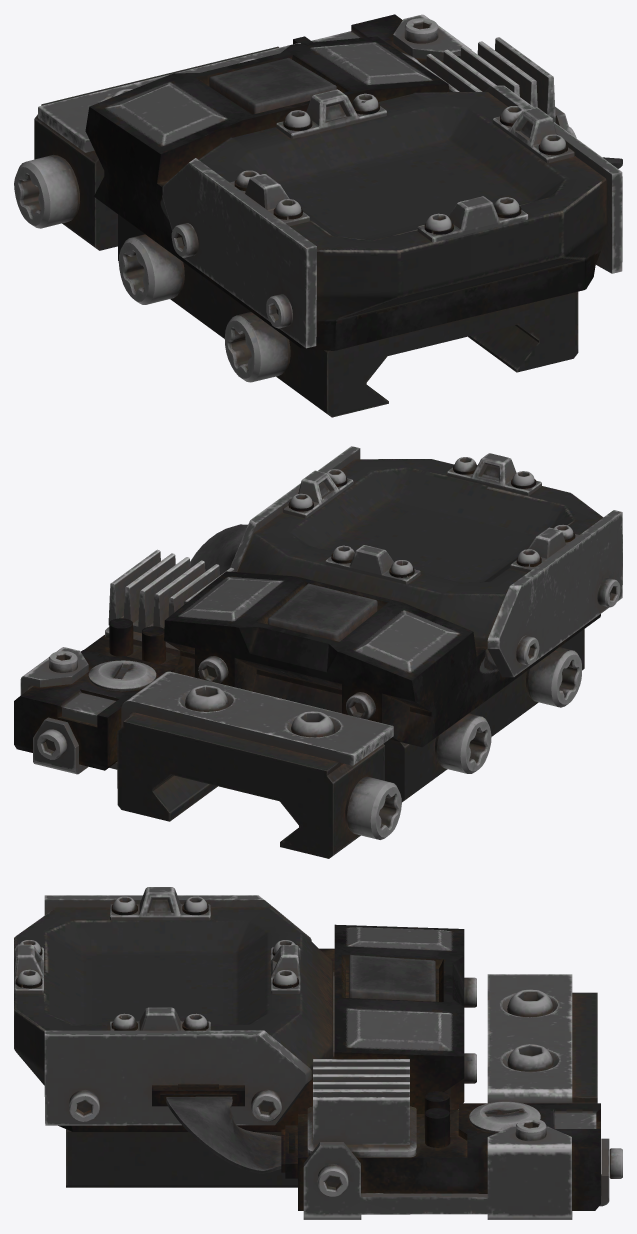
File: Sight_21.glb
3 views of the same model, one above another, from view 1: azimuth 30°, elevation 25°; view 2: azimuth 150°, elevation 25°; view 3: azimuth 270°, elevation 25° (orthographic). The views are drawn at different scales.
Visible parts, largest first — view 1: Sight_21; view 2: Sight_21; view 3: Sight_21.
Part boxes in pixels (x1,y1,x2,y2): Sight_21: (14,14,622,417); Sight_21: (14,446,622,858); Sight_21: (14,887,622,1219).
Bounding box in the file's own units: 0.0534 × 0.0245 × 0.0715.
Materials: 1 (1 with a texture image).
